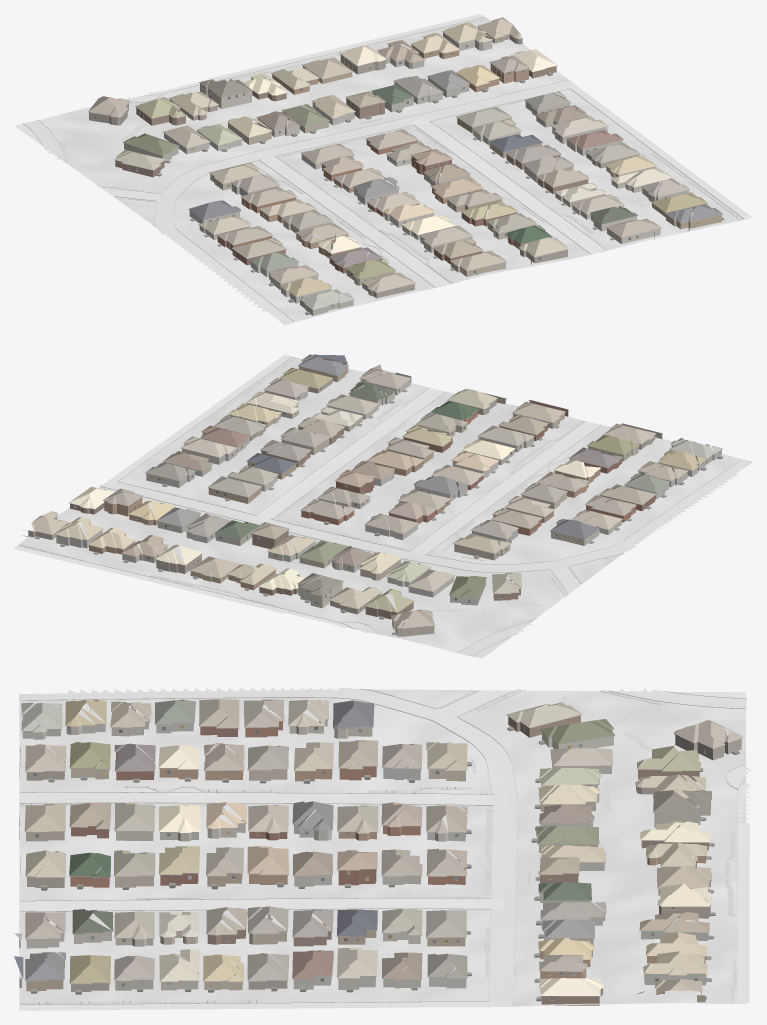
3 views of the same model, one above another, from view 1: azimuth 30°, elevation 25°; view 2: azimuth 150°, elevation 25°; view 3: azimuth 270°, elevation 25° (orthographic). The views are drawn at different scales.
Visible parts, largest first — view 1: roof, ground, concrete, wall, wall_stucco, detail, curb, wall_stone, walk, asphalt, glass; view 2: roof, ground, concrete, wall, wall_stucco, detail, curb, wall_stone, walk, asphalt, glass; view 3: ground, roof, concrete, wall, wall_stucco, detail, curb, walk, wall_stone, asphalt.
Part boxes in pixels (x1,y1,x2,y2): roof: [88, 17, 722, 309]; ground: [14, 15, 752, 324]; concrete: [102, 14, 751, 323]; wall: [89, 28, 721, 298]; wall_stucco: [124, 45, 688, 315]; detail: [88, 21, 723, 315]; curb: [23, 17, 743, 320]; wall_stone: [164, 32, 622, 303]; walk: [60, 18, 743, 283]; asphalt: [24, 120, 63, 159]; glass: [94, 44, 694, 307]; roof: [31, 354, 722, 628]; ground: [14, 355, 752, 658]; concrete: [14, 355, 748, 632]; wall: [22, 354, 662, 636]; wall_stucco: [122, 369, 721, 608]; detail: [26, 355, 722, 635]; curb: [18, 356, 740, 656]; wall_stone: [56, 432, 705, 597]; walk: [18, 357, 623, 631]; asphalt: [458, 622, 532, 656]; glass: [98, 369, 688, 613]; ground: [19, 689, 745, 1010]; roof: [14, 699, 742, 996]; concrete: [20, 687, 752, 1010]; wall: [19, 715, 741, 1005]; wall_stucco: [19, 708, 710, 990]; detail: [19, 705, 743, 1001]; curb: [20, 688, 746, 1006]; walk: [20, 689, 736, 1004]; wall_stone: [66, 708, 706, 989]; asphalt: [617, 688, 746, 708].
Size of the model in its own units: 258 by 13.76 by 254.
